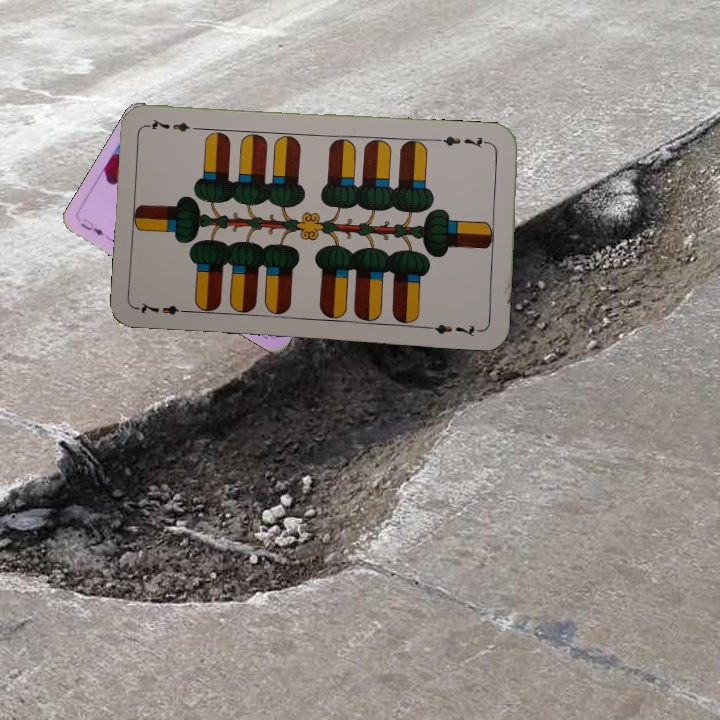E7: (135, 298, 194, 318), (434, 132, 494, 151)
EU: (76, 214, 106, 238)
